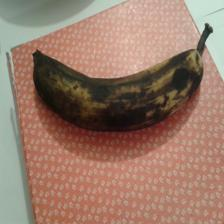Banana Rotten: (27, 38, 224, 137)
